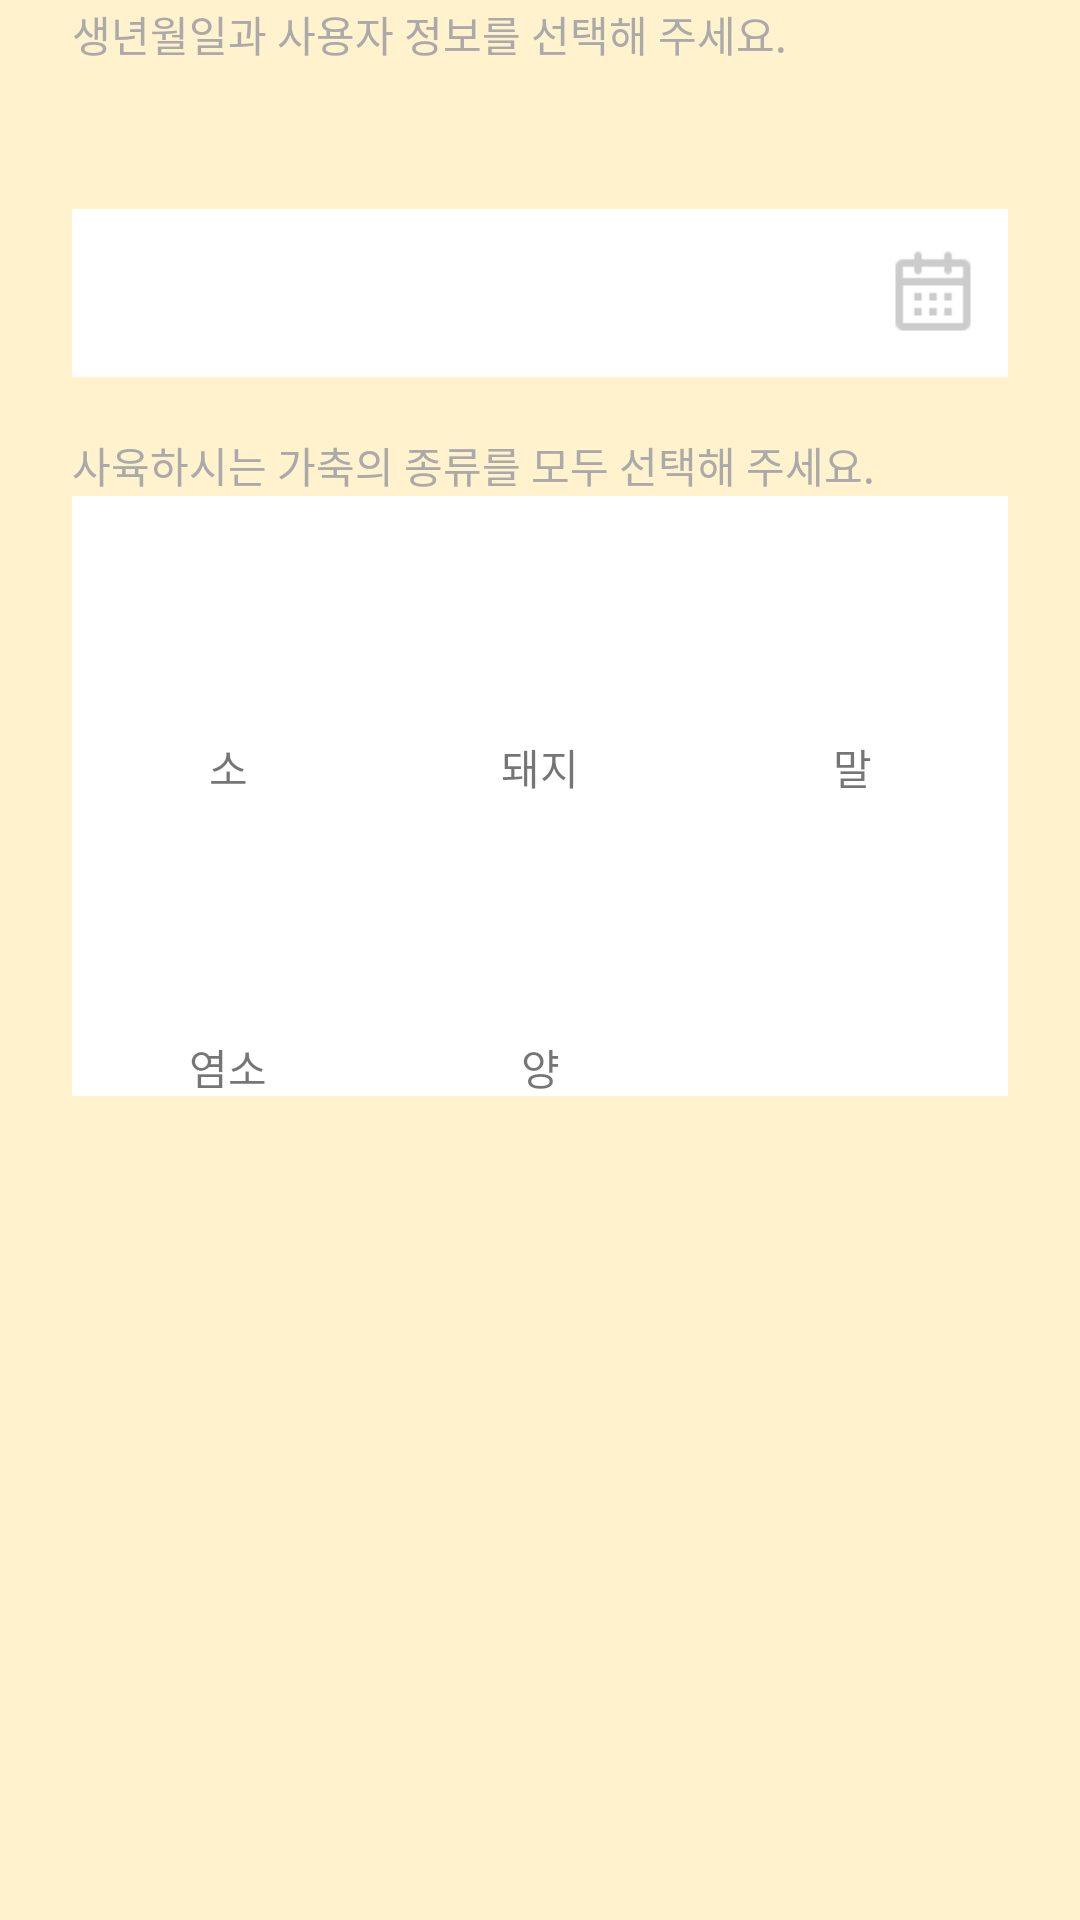

Where icons sit on this 1080px×1920px app screen, as {"x1": x1, "y1": y1, "x2": x2, "y2": y2}:
calendar: {"x1": 895, "y1": 252, "x2": 971, "y2": 331}
